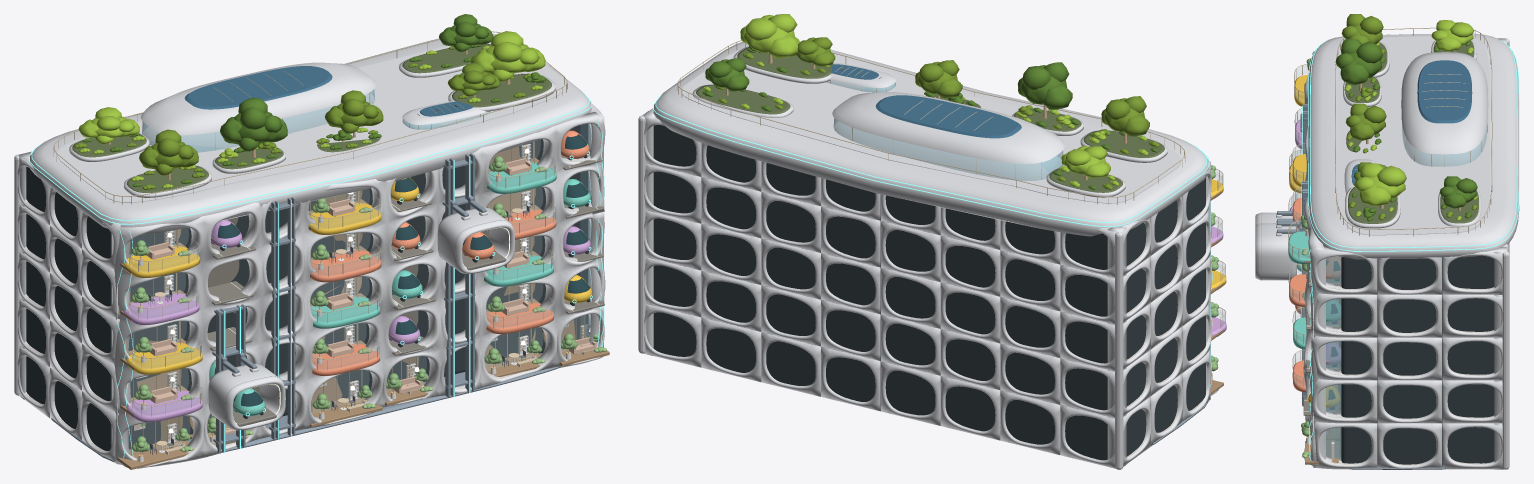
Rendered from drawer-housing-2127.glb.
3 views of the same model, side by side, from view 1: azimuth 30°, elevation 25°; view 2: azimuth 150°, elevation 25°; view 3: azimuth 270°, elevation 25° (orthographic). The views are drawn at different scales.
Parts seen in each view (by area): view 1: Continuous welded front shell, Inset dark volume, Rolled roof • integrated silver crown, Roof promenade paving, Roof pavilion • sloping silver cap, Roof pavilion • skylight, Projecting drawer • silver housing.001, Projecting drawer • silver housing, Roof pavilion • glass ribbon, Ground contact sill, room -20.5/16.3 cantilever terrace, room -02.4/16.3 cantilever terrace (+90 smaller); view 2: Inset dark volume, Rolled roof • integrated silver crown, Roof promenade paving, Roof pavilion • sloping silver cap, Roof pavilion • skylight, Roof pavilion • glass ribbon, Rear rounded corner spine, Rear rounded corner spine.001, room +15.2/2.5 sculpted portal, room -15.2/2.5 sculpted portal, room -09.1/2.5 sculpted portal, room +09.1/2.5 sculpted portal (+67 smaller); view 3: Inset dark volume, Rolled roof • integrated silver crown, Roof promenade paving, Roof pavilion • sloping silver cap, Roof pavilion • skylight, Continuous welded front shell, Projecting drawer • silver housing.001, Rear rounded corner spine.001, room -05.0/7.2 sculpted portal, room +01.2/11.7 sculpted portal, room +01.2/7.2 sculpted portal, room -05.0/11.7 sculpted portal (+51 smaller).
Boxes of the visible parts, x1,y1,x2,y2 form: Continuous welded front shell: (111, 112, 604, 466); Inset dark volume: (26, 124, 587, 450); Rolled roof • integrated silver crown: (29, 34, 591, 234); Roof promenade paving: (57, 46, 563, 202); Roof pavilion • sloping silver cap: (140, 62, 376, 135); Roof pavilion • skylight: (184, 66, 332, 109); Projecting drawer • silver housing.001: (437, 207, 515, 273); Projecting drawer • silver housing: (208, 364, 285, 430); Roof pavilion • glass ribbon: (142, 89, 374, 152); Ground contact sill: (51, 353, 559, 461); room -20.5/16.3 cantilever terrace: (123, 293, 199, 324); room -02.4/16.3 cantilever terrace: (310, 250, 381, 282); Inset dark volume: (653, 125, 1205, 460); Rolled roof • integrated silver crown: (653, 42, 1208, 236); Roof promenade paving: (681, 50, 1181, 203); Roof pavilion • sloping silver cap: (832, 92, 1064, 163); Roof pavilion • skylight: (875, 95, 1021, 138); Roof pavilion • glass ribbon: (833, 118, 1063, 180); Rear rounded corner spine: (1115, 232, 1123, 469); Rear rounded corner spine.001: (638, 115, 645, 353); room +15.2/2.5 sculpted portal: (701, 317, 761, 381); room -15.2/2.5 sculpted portal: (1000, 390, 1060, 454); room -09.1/2.5 sculpted portal: (940, 376, 1000, 440); room +09.1/2.5 sculpted portal: (761, 332, 820, 396); Inset dark volume: (1341, 255, 1494, 465); Rolled roof • integrated silver crown: (1308, 33, 1519, 259); Roof promenade paving: (1337, 36, 1489, 235); Roof pavilion • sloping silver cap: (1401, 52, 1488, 154); Roof pavilion • skylight: (1417, 60, 1472, 123); Continuous welded front shell: (1303, 51, 1325, 467); Projecting drawer • silver housing.001: (1255, 223, 1296, 280); Rear rounded corner spine.001: (1502, 251, 1509, 469); room -05.0/7.2 sculpted portal: (1311, 379, 1377, 423); room +01.2/11.7 sculpted portal: (1377, 337, 1441, 380); room +01.2/7.2 sculpted portal: (1377, 380, 1441, 423); room -05.0/11.7 sculpted portal: (1311, 335, 1377, 380).
Bounding box in the file's own units: 49.25 × 30.07 × 25.46.
